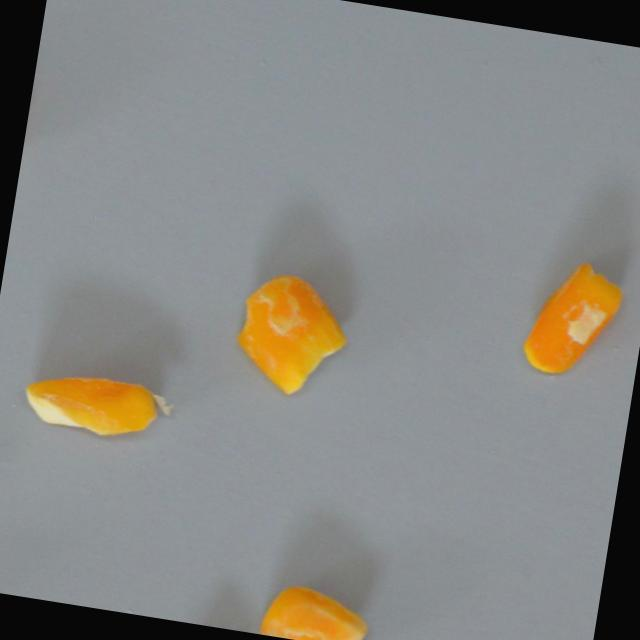pelicula: (228, 267, 355, 403), (518, 253, 628, 383), (20, 365, 172, 445), (259, 576, 372, 640)
